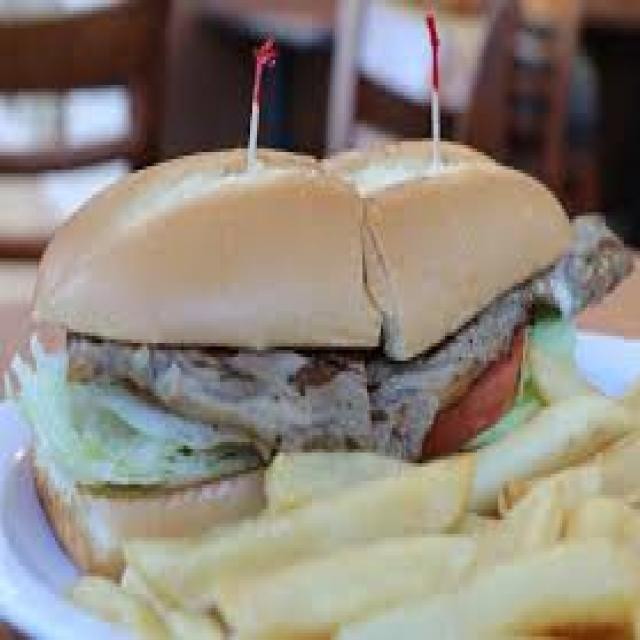Burger: (23, 131, 619, 445)
French Fries: (90, 428, 638, 636)
